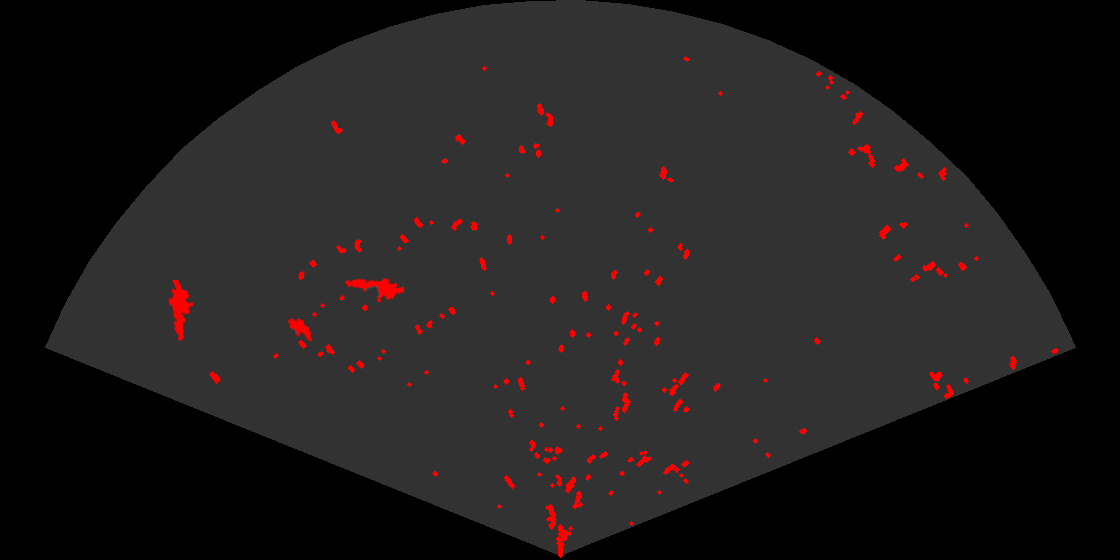AUV: (286, 316, 314, 343)
frogman: (167, 280, 195, 343), (343, 276, 404, 304)
